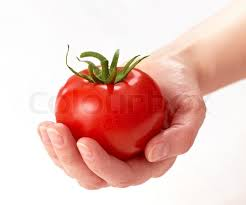tomato: (55, 65, 163, 159)
